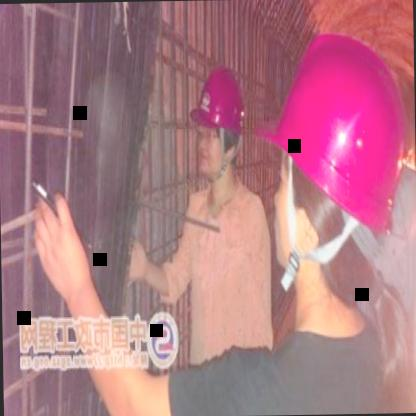helmet: (262, 0, 416, 309), (180, 48, 251, 196)
